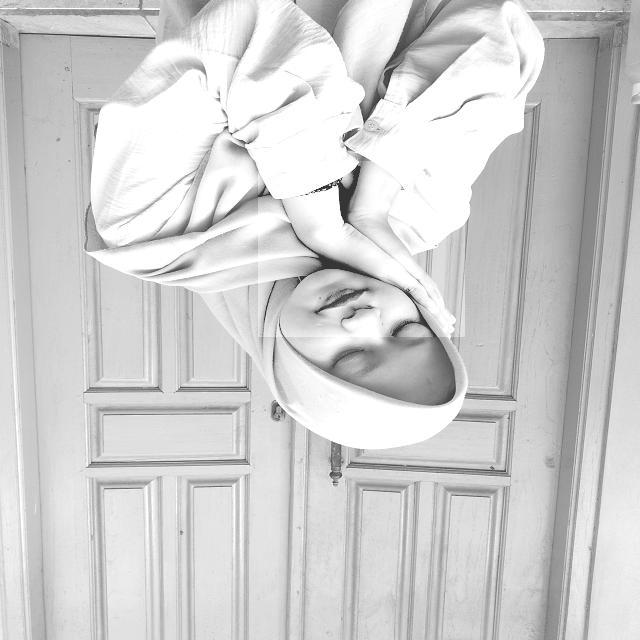tidur: (258, 161, 465, 337)
